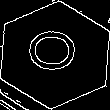O_E: (25, 32, 85, 78)
